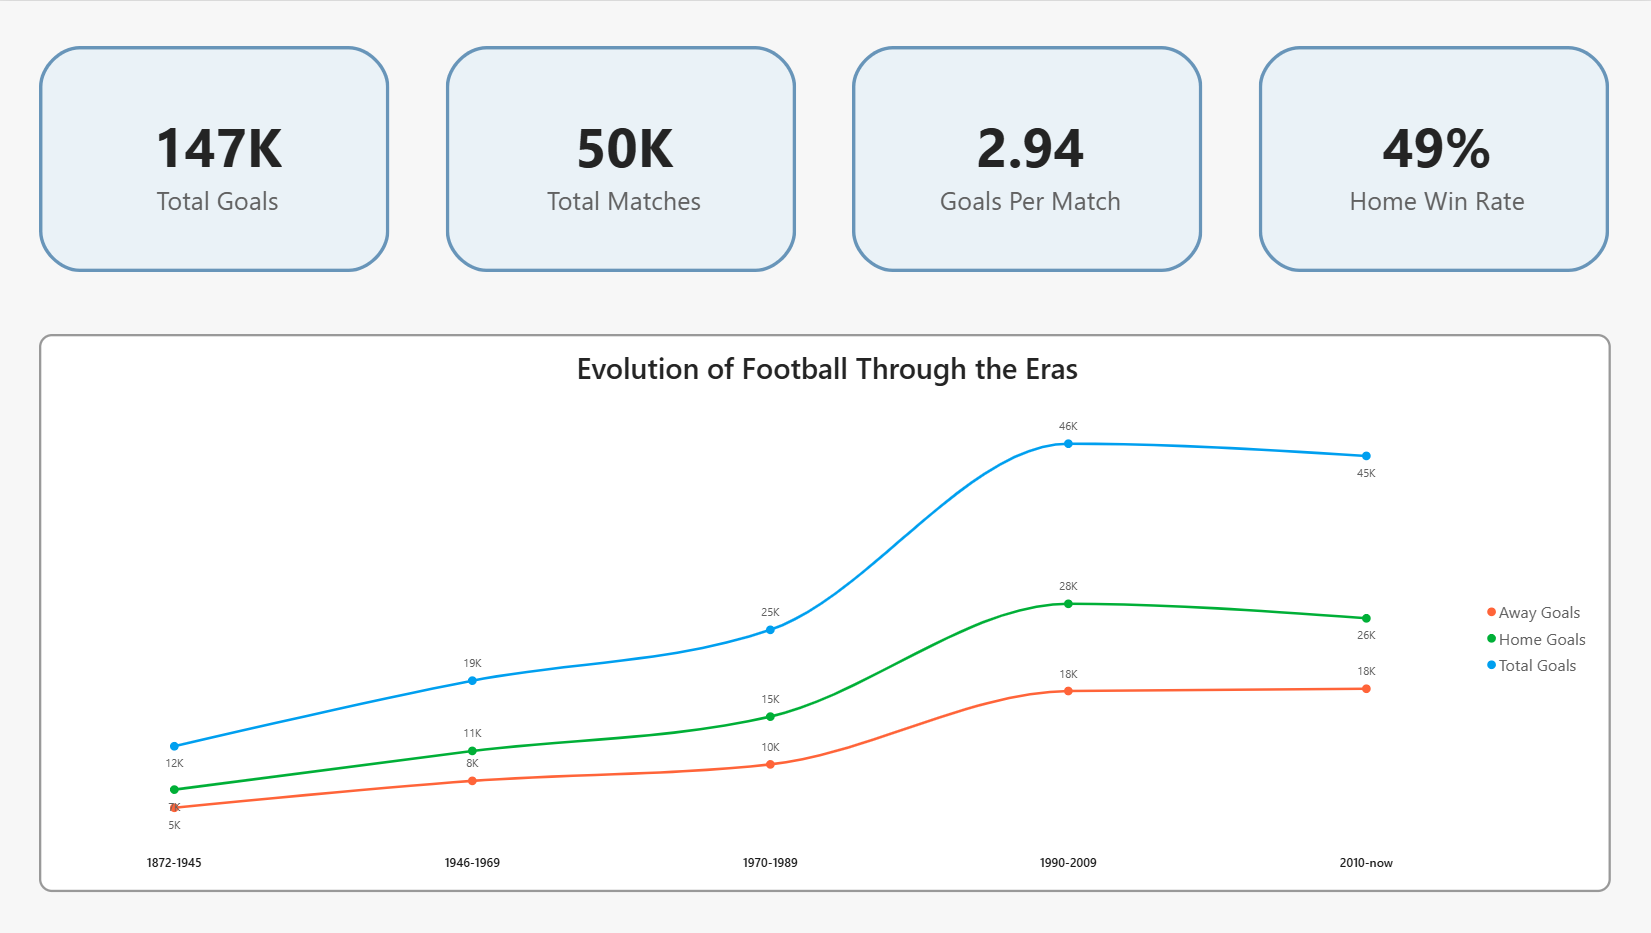

Layout of this report page (visuals, bound fields, positions):
{"tool":"powerbi","page":{"name":"Main page","canvas":[1920,1080],"ordinal":0},"visuals":[{"type":"cardVisual","fields":{"Data":["_measures.Total_Goals","_measures.Total_Matches","_measures.Goals_Per_Match","_measures.Home_Win_Rate"]},"box":[48.7,52.1,1821.5,262.5],"z":0},{"type":"lineChart","title":"Evolution of Football Through the Eras","fields":{"Category":["results.era"],"Y":["Sum(results.away_score)","Sum(results.home_score)","_measures.Total_Goals"]},"box":[48.7,385.9,1821.5,646.6],"z":1000}]}

Visuals, with their boxes in screenshot pixels (x1, y1, x2, y2), scaled from the page's 1920x1080 canvas onto the 1651x933 screenshot:
cardVisual - _measures.Total_Goals x _measures.Total_Matches: select_region(42, 45, 1608, 272)
"Evolution of Football Through the Eras" lineChart: select_region(42, 333, 1608, 892)
